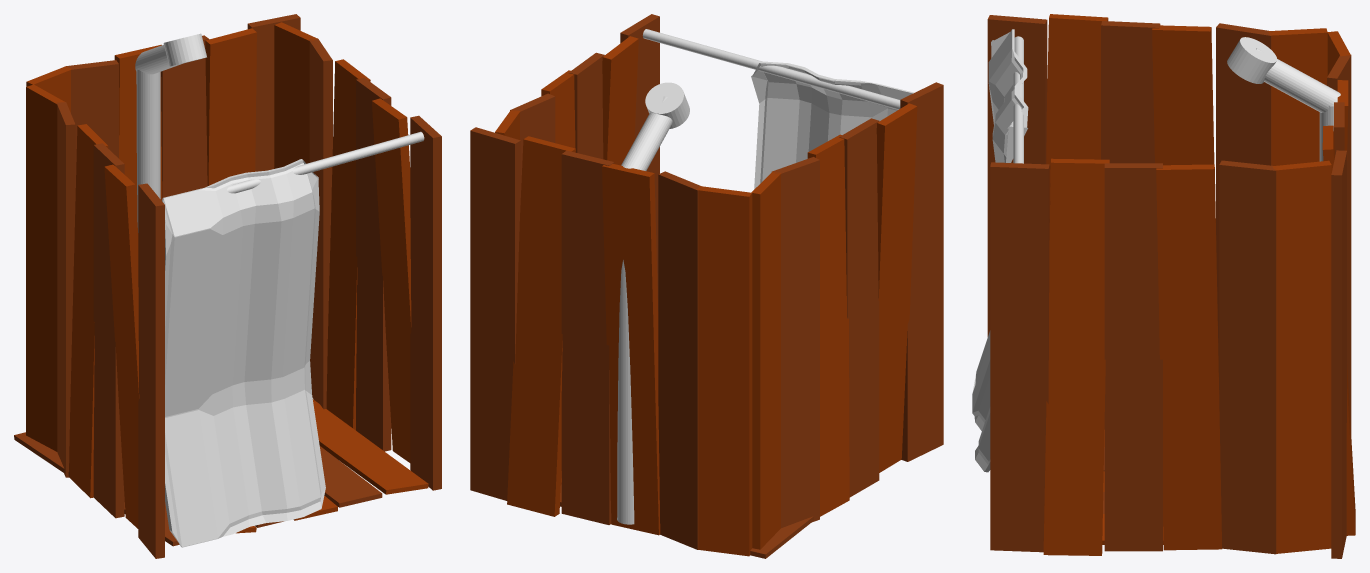
Rendered from Shower.fbx.
The picture shows the model from 3 angles, left to right: view 1: azimuth 30°, elevation 25°; view 2: azimuth 150°, elevation 25°; view 3: azimuth 270°, elevation 25°; orthographic projection. The views are drawn at different scales.
Visible parts, largest first — view 1: Cube.014, Cube.001, Cube.002, Cube, Cube.009, Cube.010, Cube.011, Cube.013, Cube.012, Cube.007, Cylinder.002, Cube.008 (+4 smaller); view 2: Cube.002, Cube.001, Cube.014, Cube.009, Cylinder.002, Cube.010, Cube, Cylinder.003, Cube.013, Cube.011, Cylinder.001, Cylinder (+1 smaller); view 3: Cube.001, Cube.009, Cube.011, Cube, Cube.013, Cube.010, Cube.012, Cube.002, Cube.014, Cylinder.001, Cylinder, Cylinder.003.
Boxes of the visible parts, x1,y1,x2,y2 form: Cube.014: (162, 159, 325, 547); Cube.001: (26, 84, 164, 558); Cube.002: (26, 14, 300, 216); Cube: (410, 115, 441, 490); Cube.009: (372, 98, 411, 462); Cube.010: (356, 77, 391, 451); Cube.011: (326, 59, 370, 430); Cube.013: (309, 38, 332, 409); Cube.012: (274, 22, 317, 168); Cube.007: (312, 399, 428, 494); Cylinder.002: (136, 70, 160, 232); Cube.008: (319, 446, 382, 507); Cube.002: (470, 127, 752, 556); Cube.001: (751, 82, 943, 549); Cube.014: (751, 61, 914, 189); Cube.009: (602, 36, 638, 165); Cylinder.002: (617, 260, 634, 524); Cube.010: (569, 52, 604, 159); Cube: (620, 14, 659, 310); Cylinder.003: (642, 29, 900, 109); Cube.013: (510, 93, 555, 189); Cube.011: (541, 70, 575, 148); Cylinder.001: (621, 96, 672, 170); Cylinder: (645, 82, 689, 128); Cube.001: (987, 14, 1327, 389); Cube.009: (1043, 158, 1109, 555); Cube.011: (1156, 164, 1222, 550); Cube: (990, 162, 1049, 552); Cube.013: (1219, 160, 1276, 554); Cube.010: (1104, 163, 1162, 551); Cube.012: (1272, 160, 1331, 553); Cube.002: (1322, 31, 1355, 558); Cube.014: (972, 29, 1028, 472); Cylinder.001: (1256, 48, 1340, 112); Cylinder: (1227, 37, 1277, 83); Cylinder.003: (1013, 36, 1023, 163).
Bounding box in the file's own units: 1.44 × 1.82 × 1.44.
